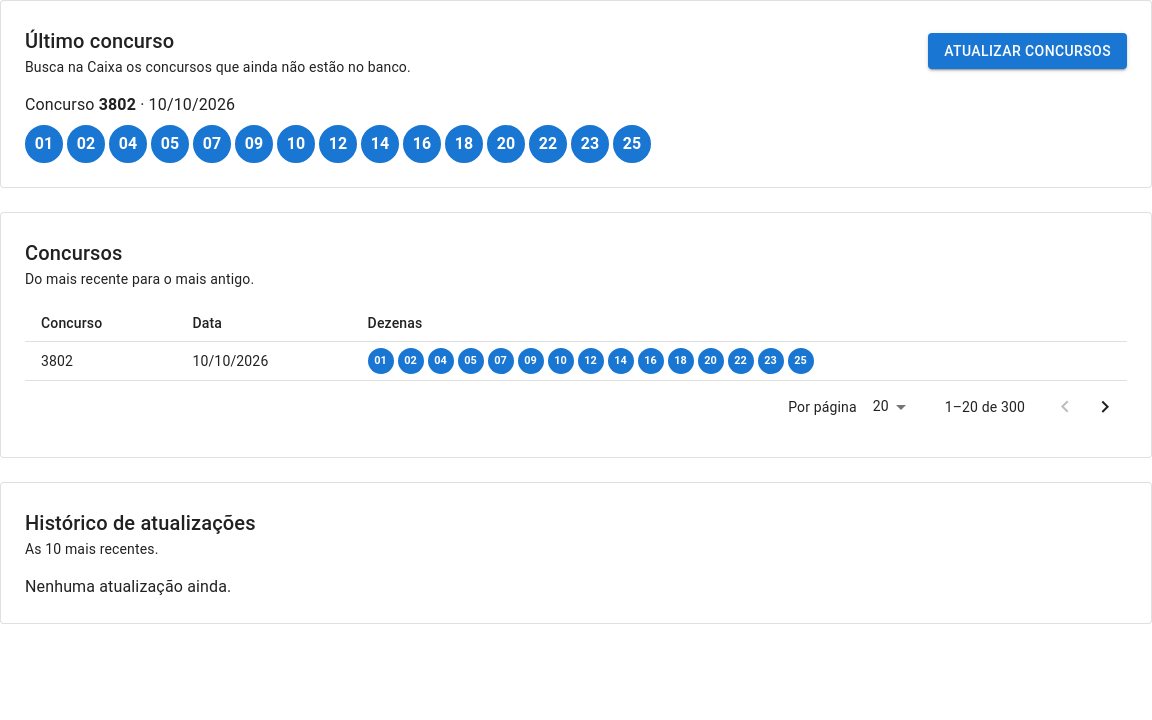
Test case: Página de concursos › avisa quando ainda faltam concursos
Click the button "Atualizar concursos" at (1028, 51), box top-left (928, 33), bottom-right (1127, 69)
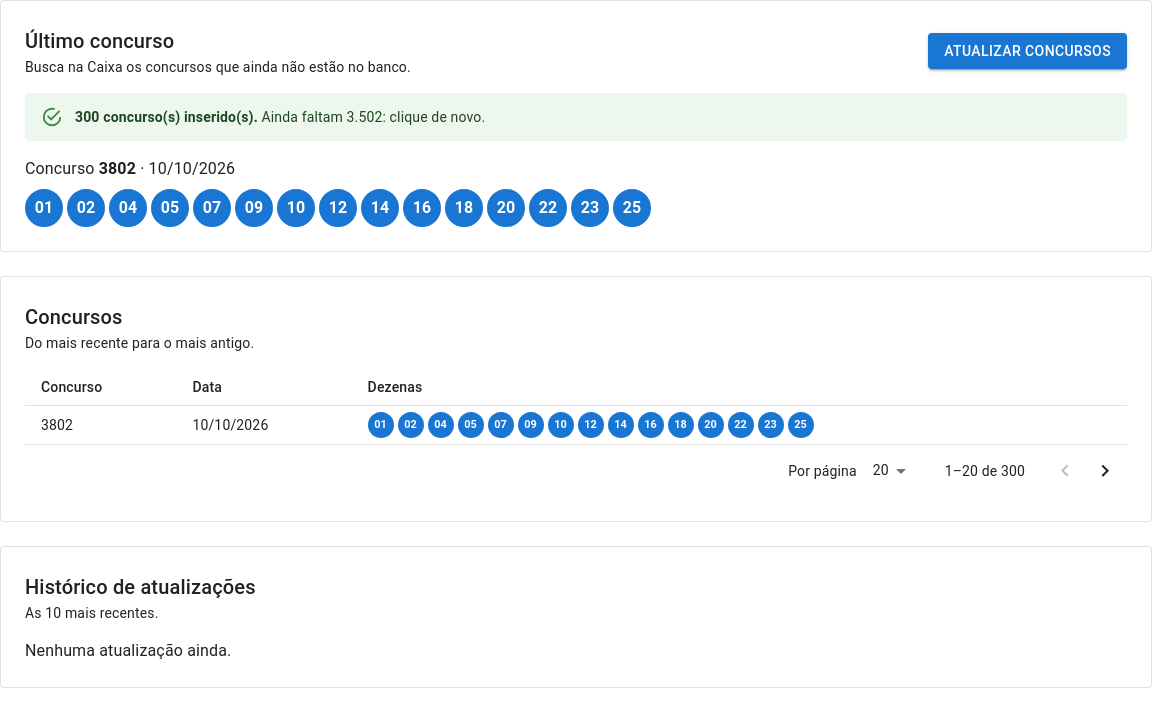
Now the text "Ainda faltam 3.502: clique de novo" is shown, box top-left (262, 109), bottom-right (485, 125)
